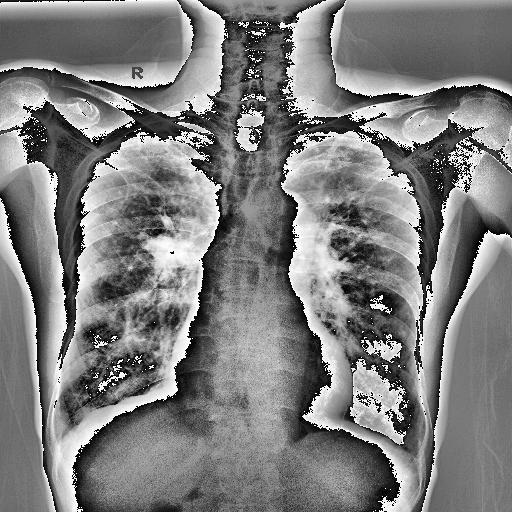0- Aortic enlargement: (261, 188, 315, 268)
11- Pleural thickening: (110, 118, 176, 148), (49, 396, 72, 450), (382, 144, 412, 176), (406, 445, 424, 474), (49, 426, 65, 450)
13- Pulmonary fibrosis: (72, 128, 212, 264), (298, 142, 420, 270), (99, 128, 219, 242), (290, 116, 412, 210)
5- ILD: (280, 126, 422, 398), (70, 124, 218, 360)
9- Other lesion: (58, 380, 176, 438), (144, 220, 210, 272)
